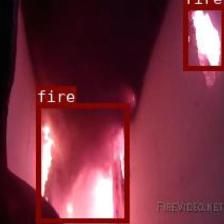fire: (35, 103, 128, 222), (182, 4, 224, 70)
